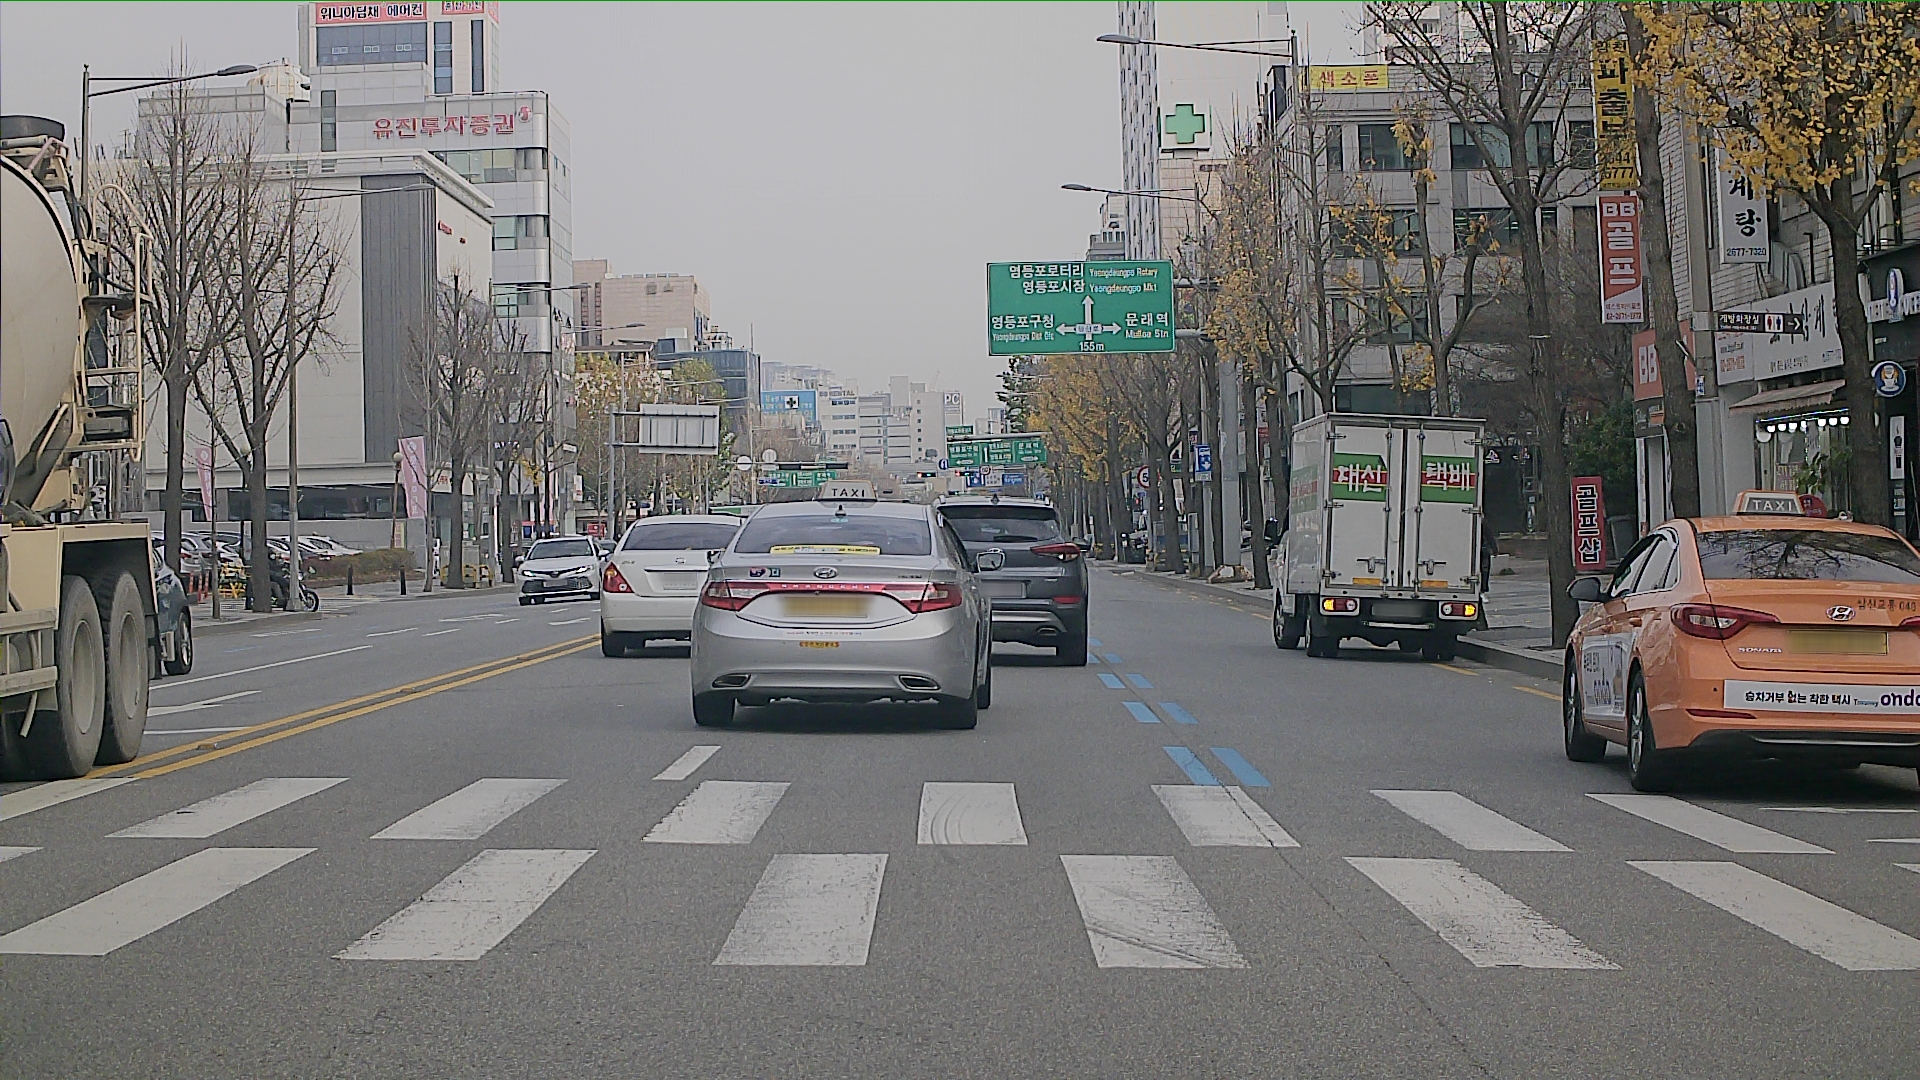trafficLight: (913, 469, 981, 479)
trafficSignCircle: (1137, 465, 1150, 491), (940, 458, 949, 471)
